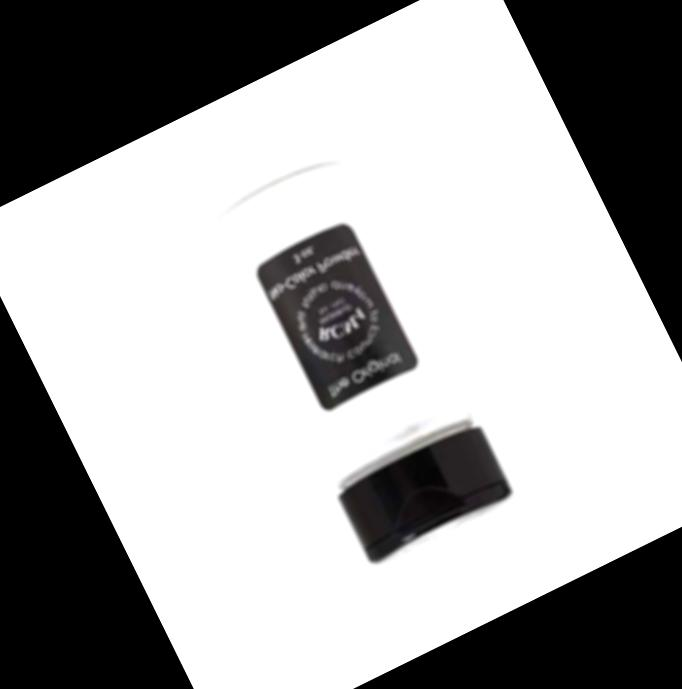cosmetic: (196, 148, 523, 570)
